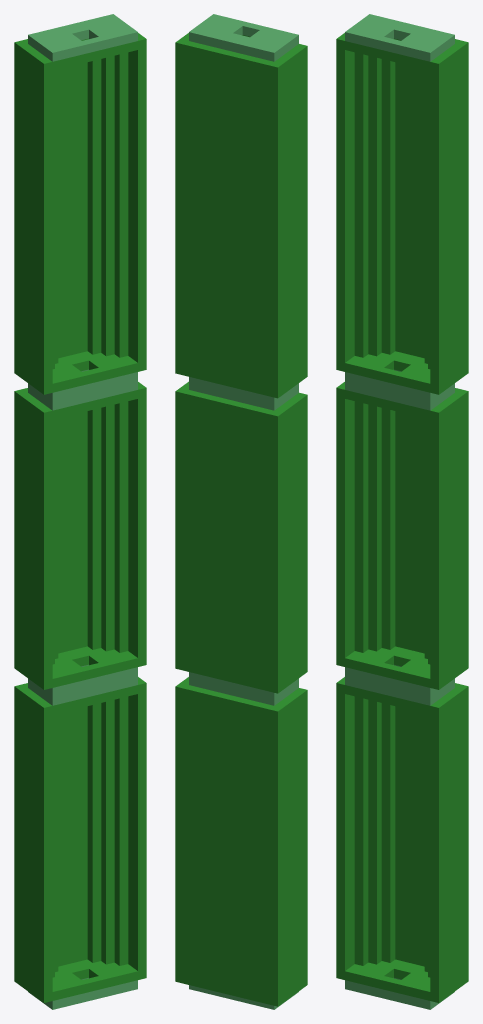
Rendered from bamboo_hole.obj.
3 renders of one model, left to right at view 1: azimuth 30°, elevation 25°; view 2: azimuth 150°, elevation 25°; view 3: azimuth 330°, elevation 25°, orthographic.
Bounding box in the file's own units: 1.2 × 10.7 × 0.6.
Materials: 1 (1 with a texture image).
